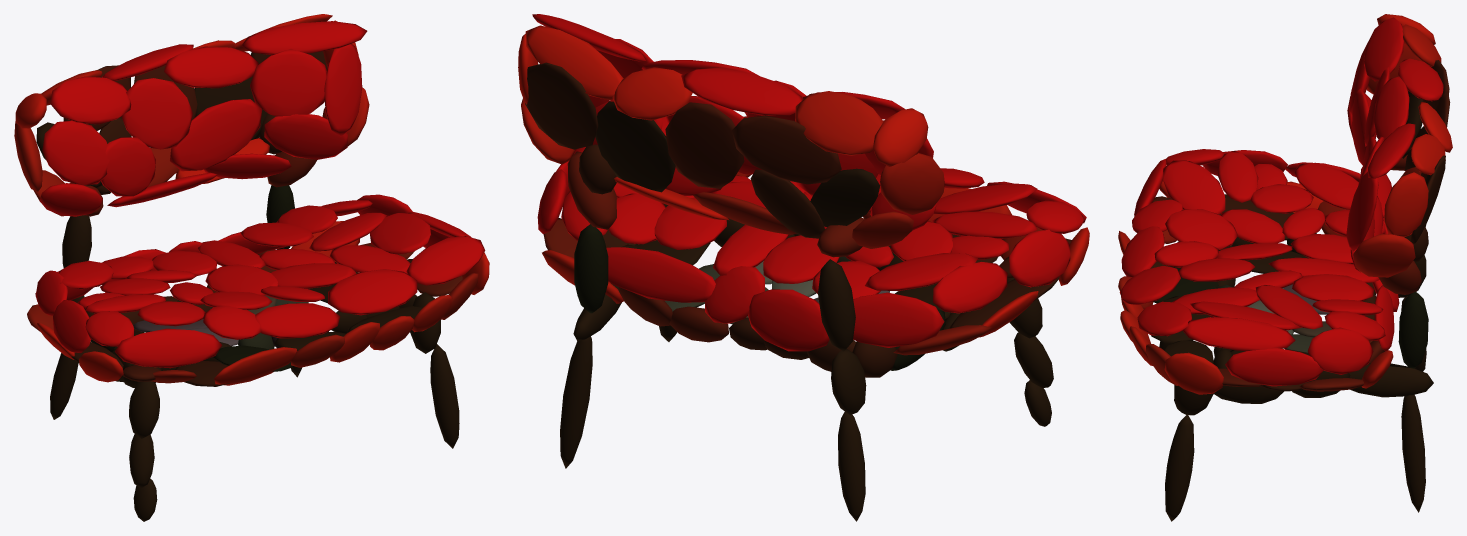
File: SheenChair_1024B_ellip.glb
The picture shows the model from 3 angles, left to right: view 1: azimuth 30°, elevation 25°; view 2: azimuth 150°, elevation 25°; view 3: azimuth 270°, elevation 25°; orthographic projection. The views are drawn at different scales.
Size of the model in its own units: 2.04 by 1.78 by 1.45.
